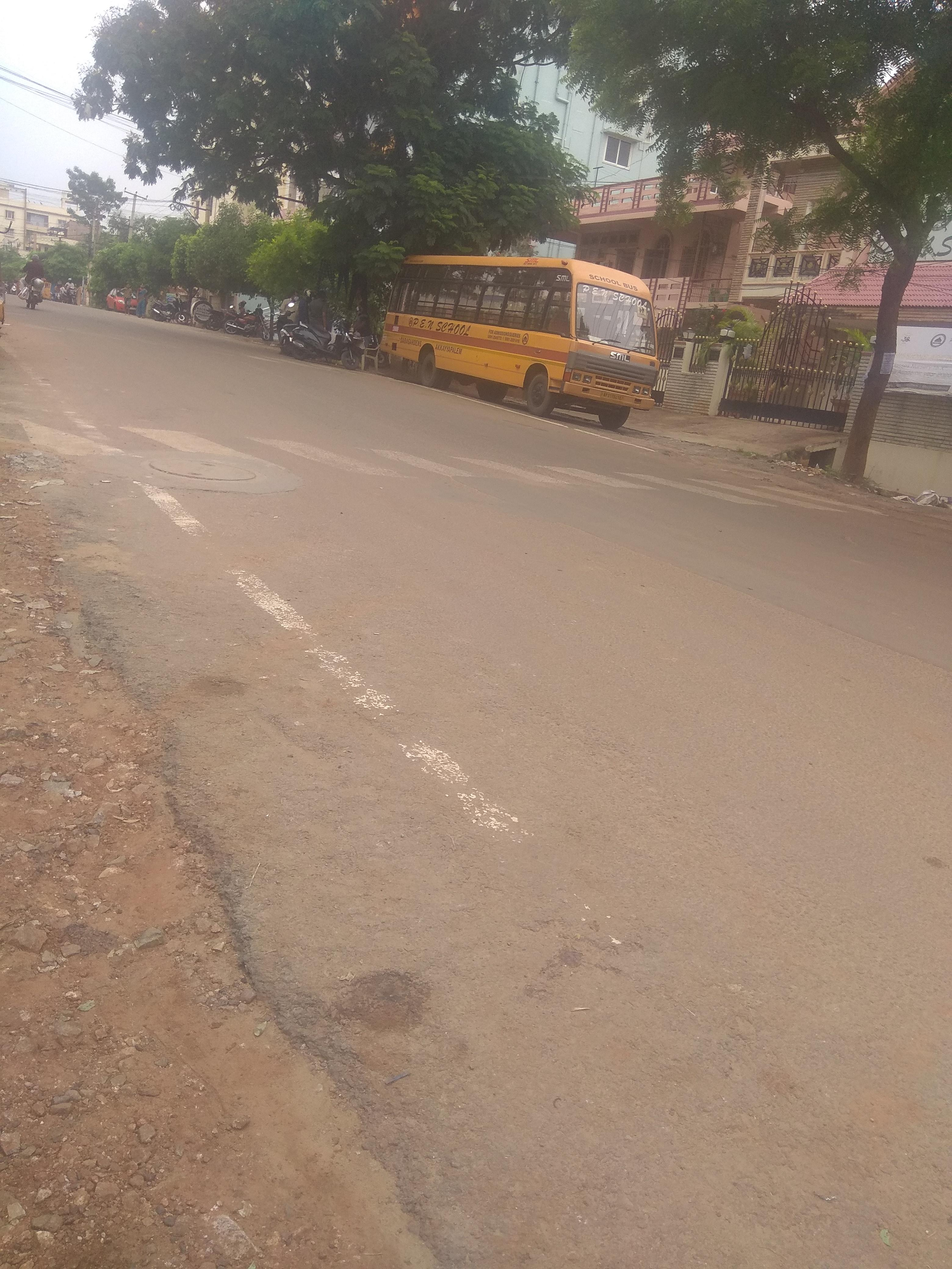Non-emergency: (352, 164, 714, 467)
